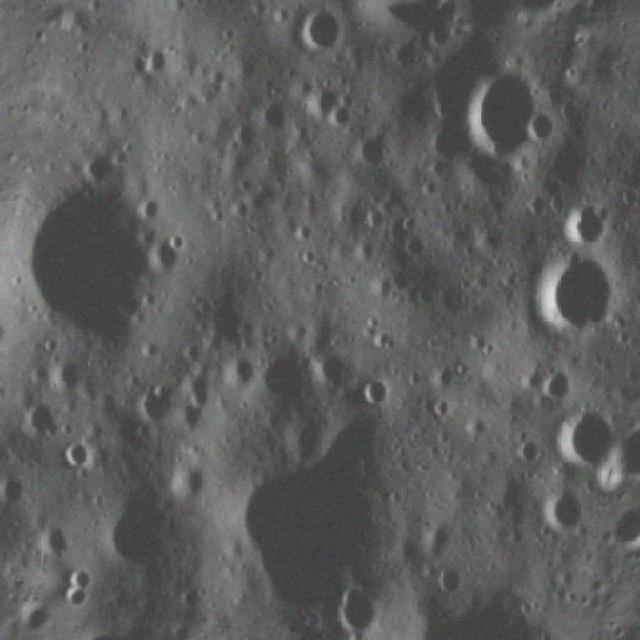crater: (198, 380, 422, 635), (2, 169, 176, 362), (443, 46, 568, 180), (86, 473, 212, 599), (517, 233, 632, 349), (402, 571, 568, 640), (542, 393, 624, 478), (253, 328, 325, 412), (528, 474, 598, 543), (199, 283, 261, 355), (555, 182, 616, 253), (322, 577, 388, 640), (291, 3, 351, 65), (11, 388, 71, 446), (75, 136, 128, 193), (128, 370, 178, 430), (163, 452, 212, 510), (343, 123, 394, 177), (306, 341, 356, 394), (520, 101, 568, 152), (142, 232, 189, 282), (43, 348, 89, 398), (30, 513, 76, 561), (534, 357, 580, 405), (354, 365, 398, 412), (55, 432, 100, 477), (298, 76, 340, 124), (222, 342, 262, 392), (382, 35, 427, 79), (222, 108, 264, 155), (621, 114, 640, 217), (322, 88, 360, 137), (502, 426, 546, 468), (110, 287, 150, 330), (253, 92, 293, 134), (396, 221, 436, 262), (130, 186, 170, 226), (512, 181, 552, 221), (417, 512, 455, 554), (131, 41, 172, 79), (430, 558, 468, 597), (346, 230, 383, 268), (460, 320, 497, 358), (423, 388, 459, 426), (0, 468, 31, 510), (61, 557, 99, 589), (288, 215, 322, 250), (357, 199, 389, 235), (383, 258, 415, 294), (35, 326, 68, 360), (174, 336, 206, 367), (20, 356, 52, 384), (270, 1, 298, 32), (395, 209, 423, 240)
